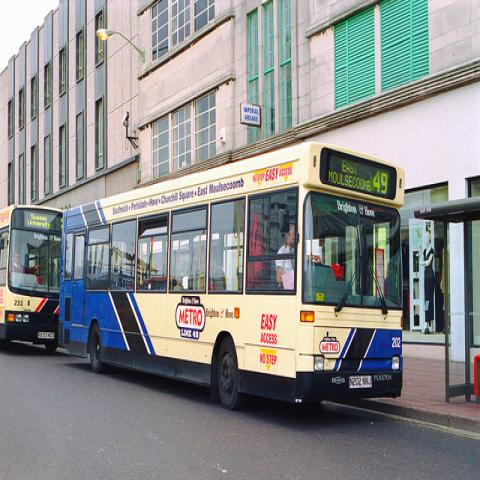bus: (55, 145, 407, 411), (0, 209, 60, 355)
